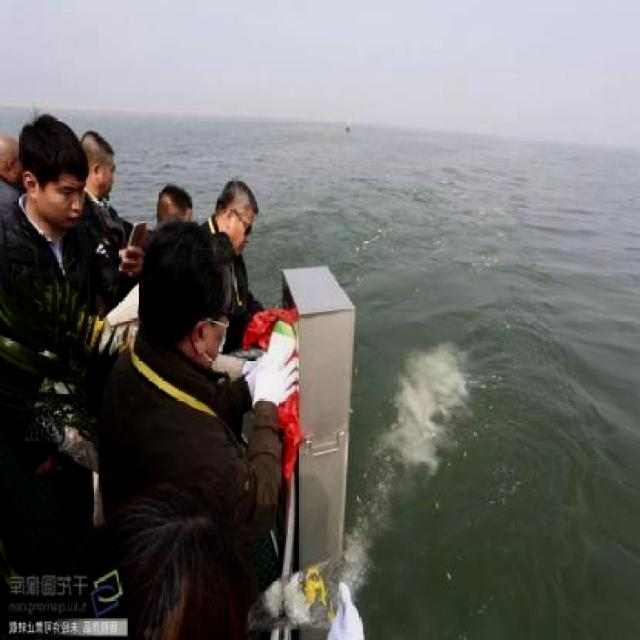face_nomask: (48, 171, 90, 232), (94, 155, 123, 208), (229, 214, 263, 252)
hand_glove: (250, 345, 302, 403)
hand_noglove: (119, 243, 143, 279)
head_nohelmet: (15, 118, 91, 180), (151, 177, 194, 223), (219, 175, 263, 212), (82, 132, 125, 157)
person: (117, 242, 295, 600), (0, 123, 94, 391), (74, 126, 151, 277)
